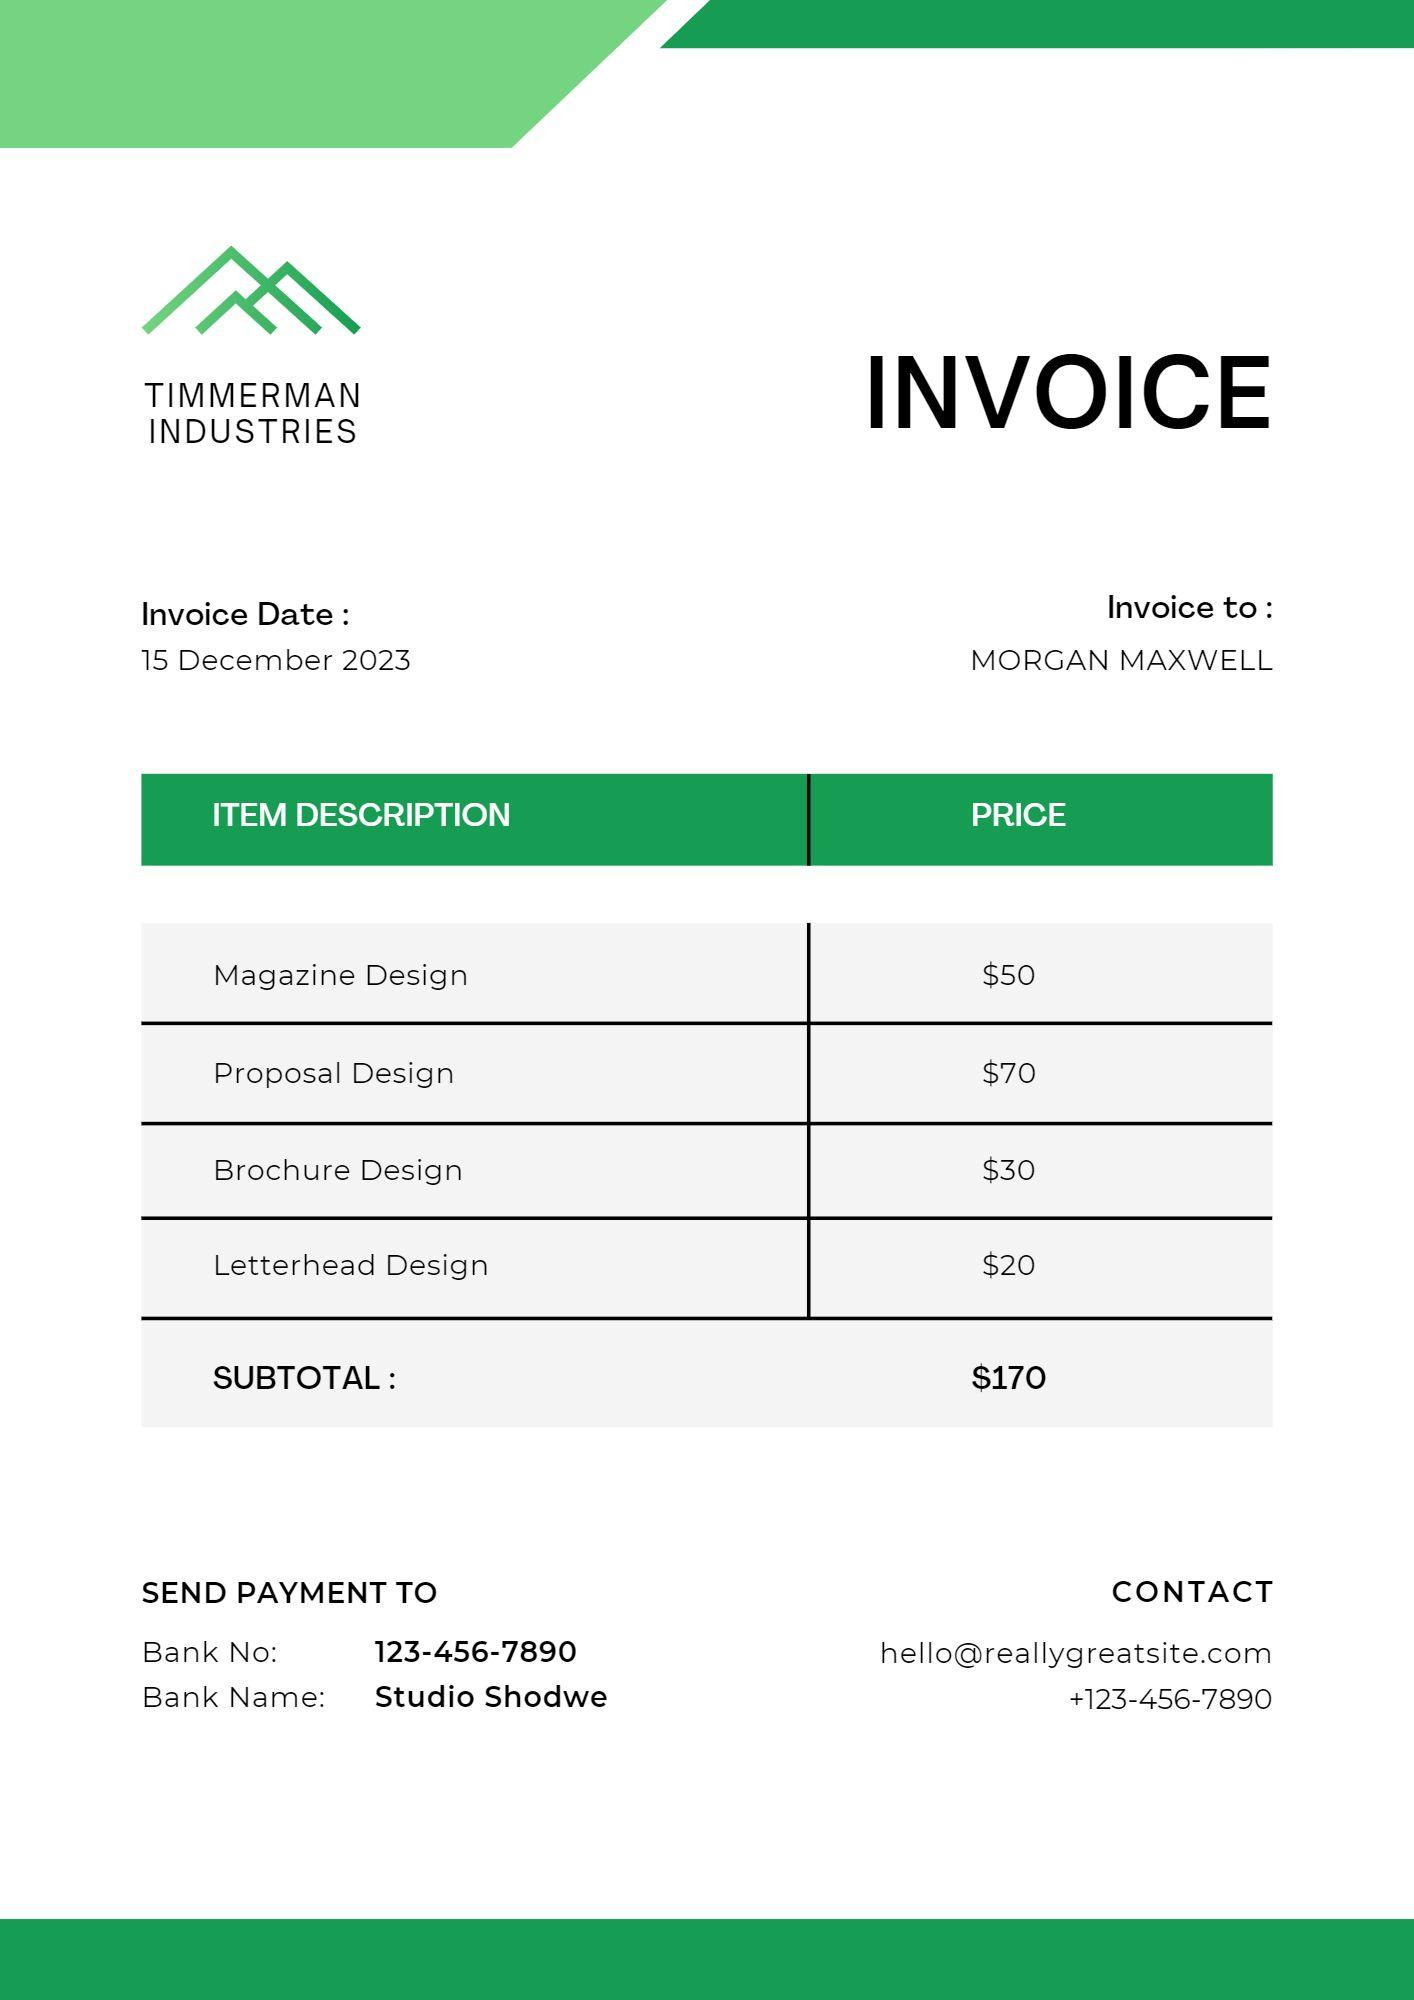ROI: (135, 765, 1300, 1334)
